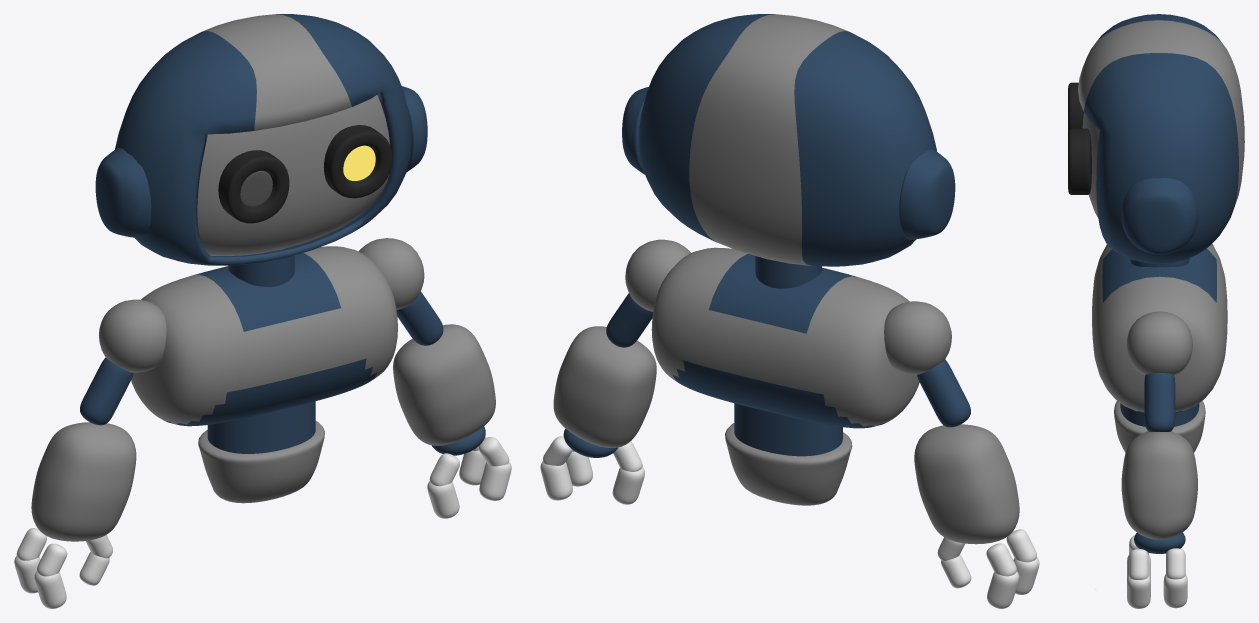
The model's file is robotPrincipal.glb.
3 views of the same model, side by side, from view 1: azimuth 30°, elevation 25°; view 2: azimuth 150°, elevation 25°; view 3: azimuth 270°, elevation 25° (orthographic). The views are drawn at different scales.
Parts seen in each view (by area): view 1: Cube.007, Cube, Cube.006, Cube.002, Cube.012, Cube.004, Cube.014, Cube.013, Cube.015, Cube.003, Cube.005, Cube.001 (+3 smaller); view 2: Cube.007, Cube, Cube.006, Cube.012, Cube.004, Cube.013, Cube.015, Cube.003, Cube.005, Cube.001, Cube.008; view 3: Cube.007, Cube, Cube.006, Cube.015, Cube.004, Cube.012, Cube.014, Cube.005, Cube.013, Cube.008, Cube.002, Cube.003 (+1 smaller).
Part boxes in pixels (x1,y1,x2,y2): Cube.007: [115, 14, 411, 265]; Cube: [131, 246, 397, 426]; Cube.006: [31, 324, 495, 541]; Cube.002: [197, 95, 389, 255]; Cube.012: [14, 436, 511, 608]; Cube.004: [99, 238, 424, 372]; Cube.014: [218, 125, 392, 223]; Cube.013: [198, 421, 324, 503]; Cube.015: [95, 86, 427, 238]; Cube.003: [207, 401, 315, 453]; Cube.005: [80, 291, 443, 425]; Cube.001: [228, 249, 294, 286]; Cube.007: [639, 14, 936, 266]; Cube: [651, 247, 919, 428]; Cube.006: [553, 326, 1019, 544]; Cube.012: [540, 436, 1039, 608]; Cube.004: [625, 239, 951, 374]; Cube.013: [725, 423, 852, 505]; Cube.015: [622, 87, 955, 239]; Cube.003: [734, 403, 842, 456]; Cube.005: [606, 293, 970, 427]; Cube.001: [755, 256, 821, 288]; Cube.008: [563, 428, 617, 457]; Cube.007: [1078, 14, 1244, 264]; Cube: [1092, 244, 1227, 412]; Cube.006: [1121, 431, 1197, 539]; Cube.015: [1121, 178, 1198, 254]; Cube.004: [1126, 311, 1192, 375]; Cube.012: [1095, 535, 1187, 608]; Cube.014: [1068, 82, 1091, 194]; Cube.005: [1144, 373, 1175, 431]; Cube.013: [1114, 401, 1205, 452]; Cube.008: [1134, 532, 1185, 553]; Cube.002: [1082, 113, 1099, 217]; Cube.003: [1120, 403, 1199, 426].
Bounding box in the file's own units: 4.69 × 4.95 × 1.65.
